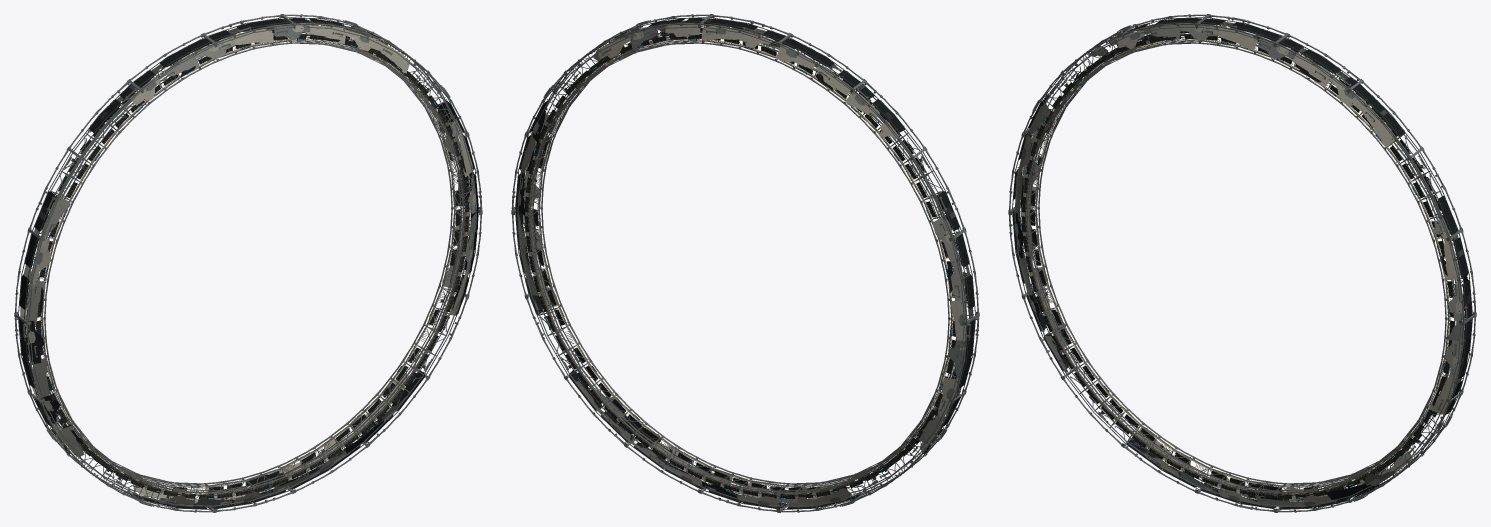
The model's file is Orbital_Ring_20K_Distant.fbx.
3 renders of one model, left to right at view 1: azimuth 30°, elevation 25°; view 2: azimuth 150°, elevation 25°; view 3: azimuth 330°, elevation 25°, orthographic.
Parts seen in each view (by area): view 1: ORBITAL_RING_20K_DISTANT; view 2: ORBITAL_RING_20K_DISTANT; view 3: ORBITAL_RING_20K_DISTANT.
Boxes of the visible parts, bbox=[...] form: ORBITAL_RING_20K_DISTANT: bbox=[14, 14, 482, 512]; ORBITAL_RING_20K_DISTANT: bbox=[511, 14, 979, 512]; ORBITAL_RING_20K_DISTANT: bbox=[1008, 14, 1476, 512].
Bounding box in the file's own units: 25.21 × 25.21 × 1.41.
